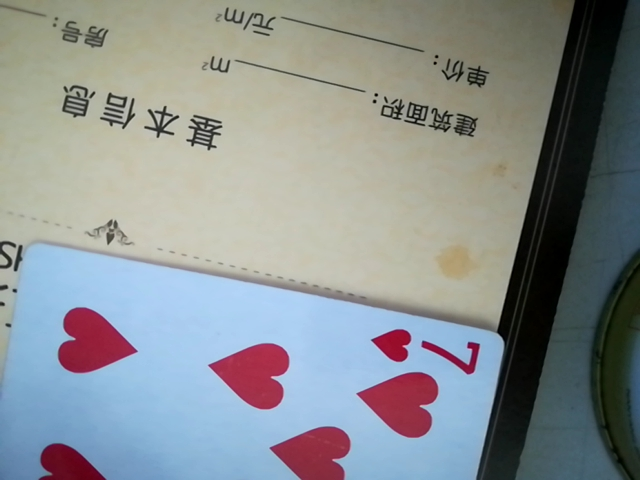hx 7: (1, 239, 503, 479)
